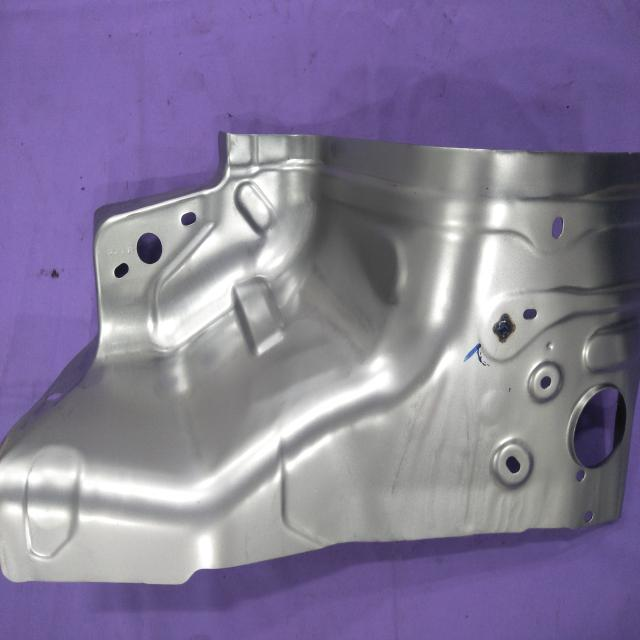Healthy: (2, 127, 638, 586)
